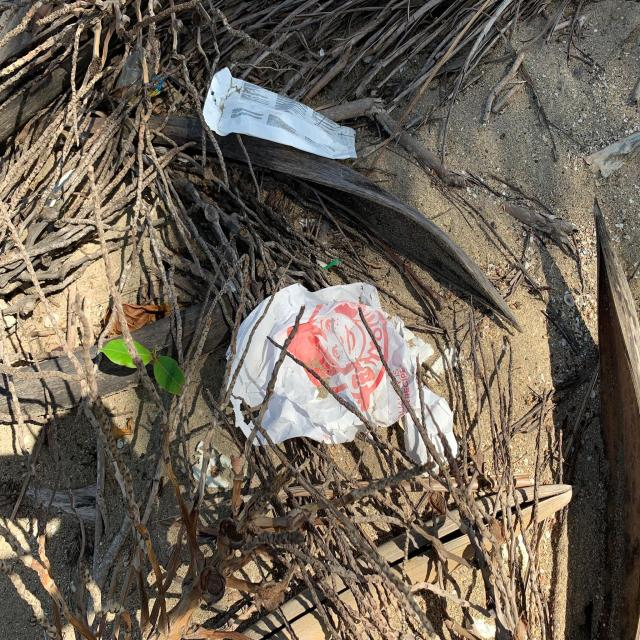litter: (226, 284, 457, 476), (202, 68, 353, 158)
